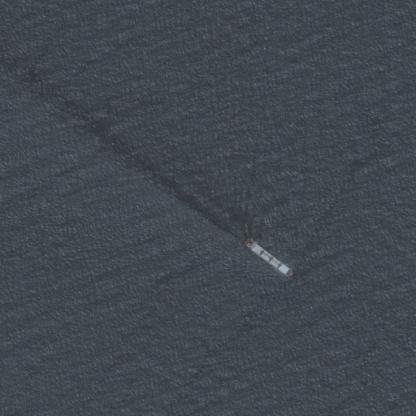ship: (237, 228, 302, 281)
